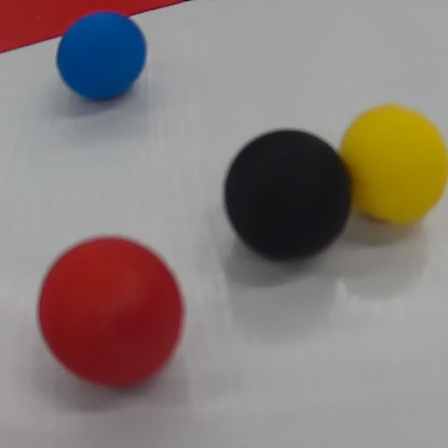black: (224, 129, 350, 260)
blue: (57, 7, 154, 99)
red: (36, 233, 185, 391)
red_base: (0, 0, 185, 54)
yellow: (336, 101, 448, 227)
